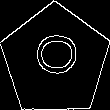O_W: (31, 38, 80, 82)
